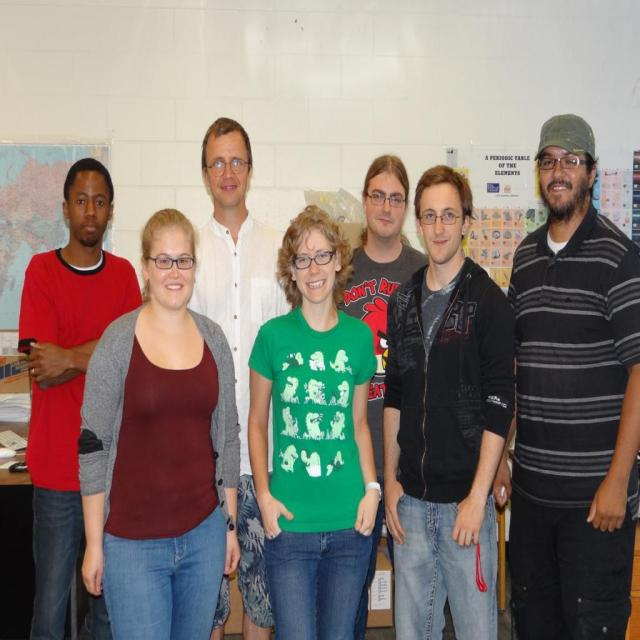Face: (530, 130, 597, 220), (139, 221, 202, 315), (288, 223, 342, 319), (206, 131, 259, 215), (56, 167, 115, 242), (419, 185, 475, 264), (363, 158, 410, 237)
